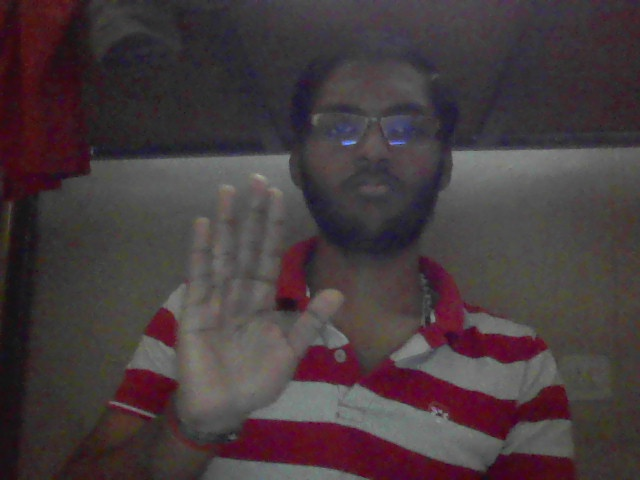Hi: (163, 182, 371, 474)
